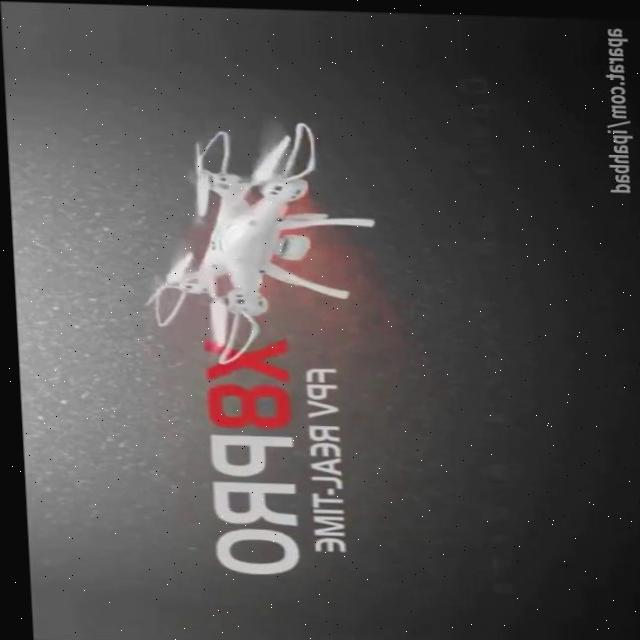drone: (132, 114, 384, 366)
